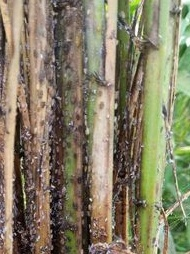Brown_hopper: (91, 72, 110, 88), (50, 95, 60, 119), (130, 198, 149, 210), (22, 130, 31, 153), (46, 30, 58, 47), (58, 182, 67, 197), (25, 176, 32, 188)
